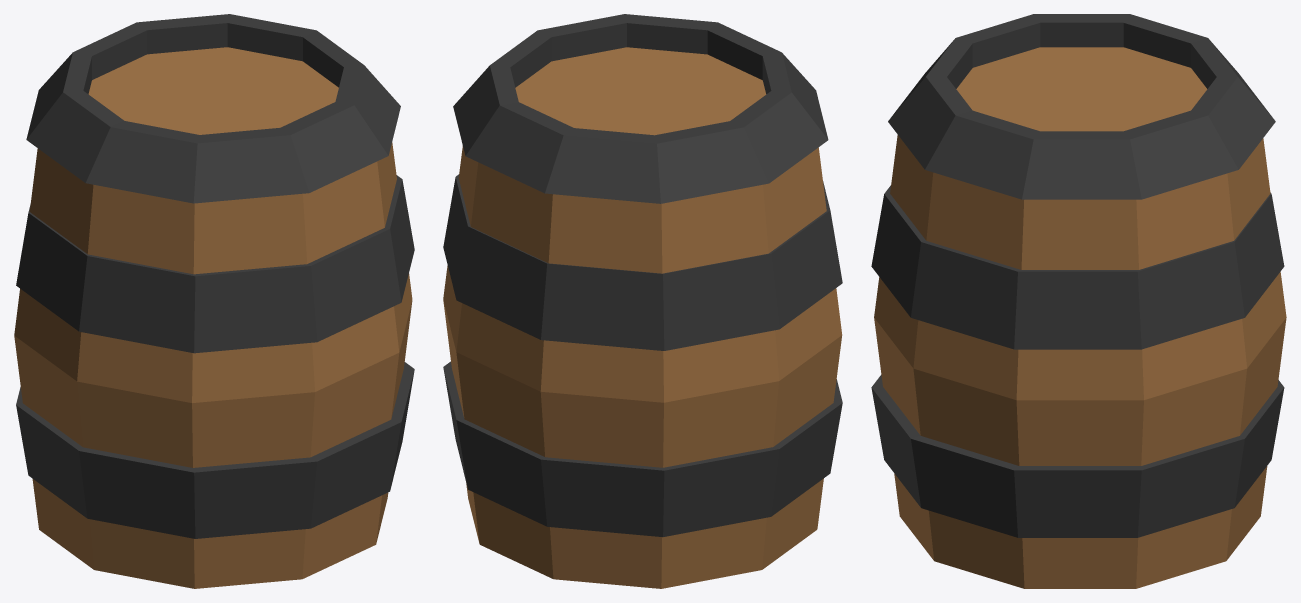
Rendered from PFE-Toneau.fbx.
The picture shows the model from 3 angles, left to right: view 1: azimuth 30°, elevation 25°; view 2: azimuth 150°, elevation 25°; view 3: azimuth 270°, elevation 25°; orthographic projection.
Visible parts, largest first — view 1: Cylinder.003, Cylinder.001, Cylinder.020, Cylinder.021, Cylinder.019, Cylinder.002, Cylinder.022, Cylinder.006, Cylinder.005, Cylinder.007, Cylinder.004, Cylinder.008 (+6 smaller); view 2: Cylinder.003, Cylinder.014, Cylinder.001, Cylinder.024, Cylinder.015, Cylinder.002, Cylinder.022, Cylinder.011, Cylinder.012, Cylinder.010, Cylinder.004, Cylinder.023 (+6 smaller); view 3: Cylinder.003, Cylinder.001, Cylinder.017, Cylinder.016, Cylinder.018, Cylinder.002, Cylinder.015, Cylinder.019, Cylinder.009, Cylinder.008, Cylinder.023, Cylinder.010 (+6 smaller).
Boxes of the visible parts, x1,y1,x2,y2 form: Cylinder.003: (16, 175, 414, 353); Cylinder.001: (16, 362, 414, 538); Cylinder.020: (192, 193, 314, 588); Cylinder.021: (77, 184, 194, 588); Cylinder.019: (302, 161, 399, 578); Cylinder.002: (88, 47, 338, 134); Cylinder.022: (14, 148, 93, 569); Cylinder.006: (193, 128, 309, 203); Cylinder.005: (86, 121, 199, 203); Cylinder.007: (280, 102, 388, 192); Cylinder.004: (26, 90, 124, 182); Cylinder.008: (335, 65, 400, 155); Cylinder.003: (443, 174, 842, 350); Cylinder.014: (540, 194, 663, 588); Cylinder.001: (443, 361, 842, 537); Cylinder.024: (661, 184, 779, 588); Cylinder.015: (456, 162, 553, 578); Cylinder.002: (515, 47, 766, 135); Cylinder.022: (762, 147, 842, 569); Cylinder.011: (545, 128, 660, 203); Cylinder.012: (655, 121, 768, 203); Cylinder.010: (466, 102, 573, 193); Cylinder.004: (730, 91, 827, 183); Cylinder.023: (453, 65, 518, 155); Cylinder.003: (871, 185, 1284, 349); Cylinder.001: (871, 375, 1284, 537); Cylinder.017: (1016, 199, 1143, 588); Cylinder.016: (1136, 173, 1246, 588); Cylinder.018: (913, 172, 1024, 588); Cylinder.002: (956, 47, 1207, 131); Cylinder.015: (1226, 138, 1286, 560); Cylinder.019: (874, 135, 933, 560); Cylinder.009: (1022, 131, 1141, 199); Cylinder.008: (925, 110, 1039, 199); Cylinder.023: (1124, 110, 1238, 199); Cylinder.010: (1191, 76, 1275, 169).
Bounding box in the file's own units: 76.5 × 94.95 × 80.69.
